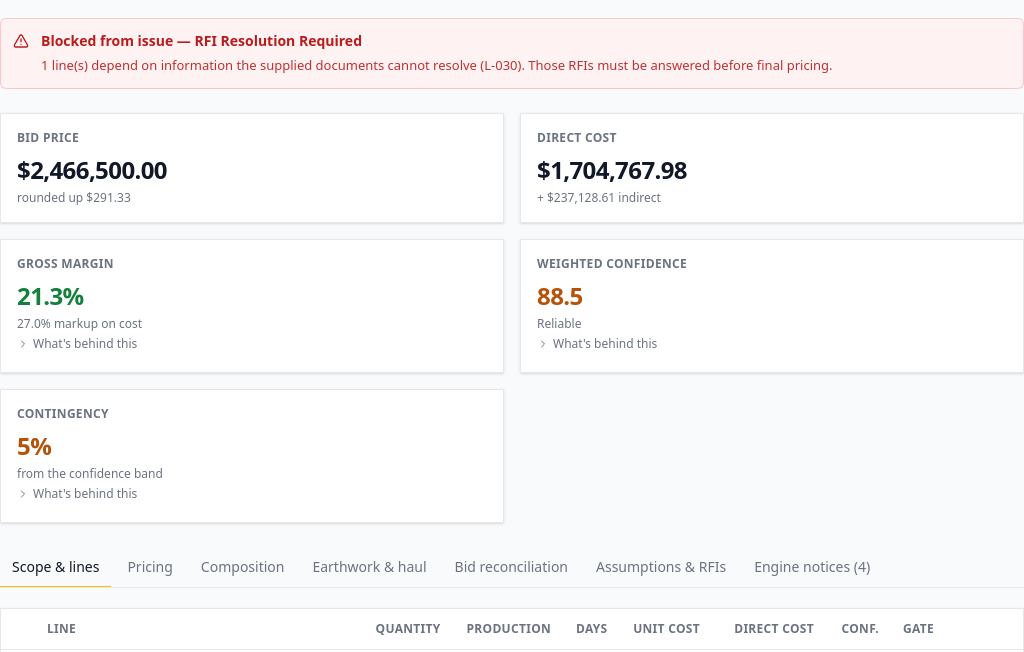
estimate workspace › shows every markup component with its basis and dollar effect (RULE-007)
Click the tab "Pricing".
click(150, 567)  # box left=115, top=547, right=185, bottom=587
(page scrolled)
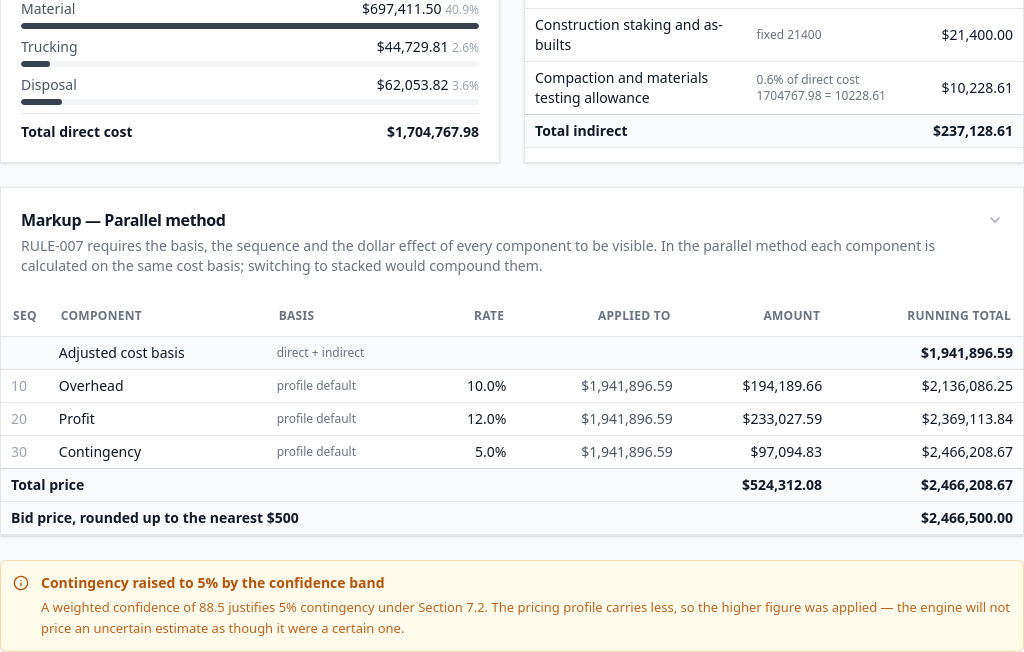
Now the text "Overhead" is shown, box left=49, top=369, right=267, bottom=402
Now the text "Profit" is shown, box left=49, top=402, right=267, bottom=435
